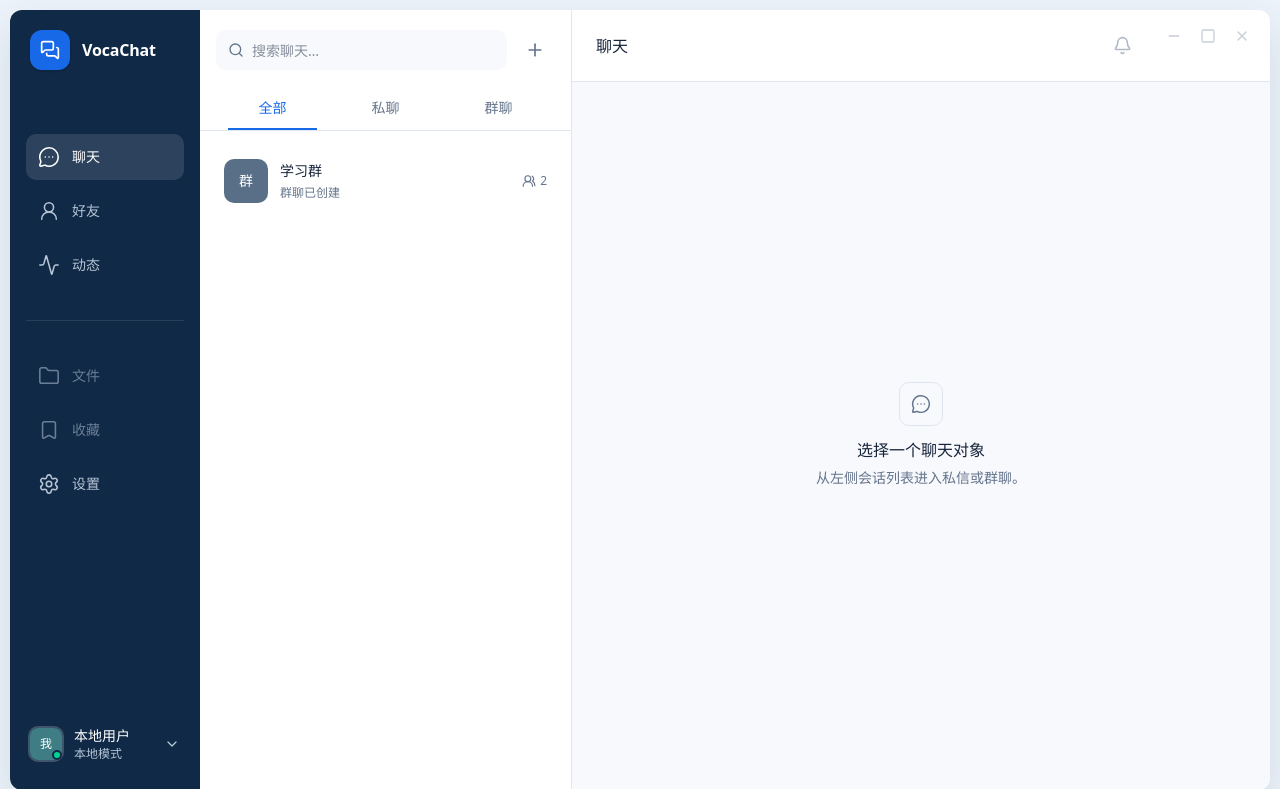
Test: VocaChatApp › 离开寻找新朋友页面后仍保留未提交资料
Click the button "好友": {"x": 105, "y": 211} left=26, top=188, right=184, bottom=234
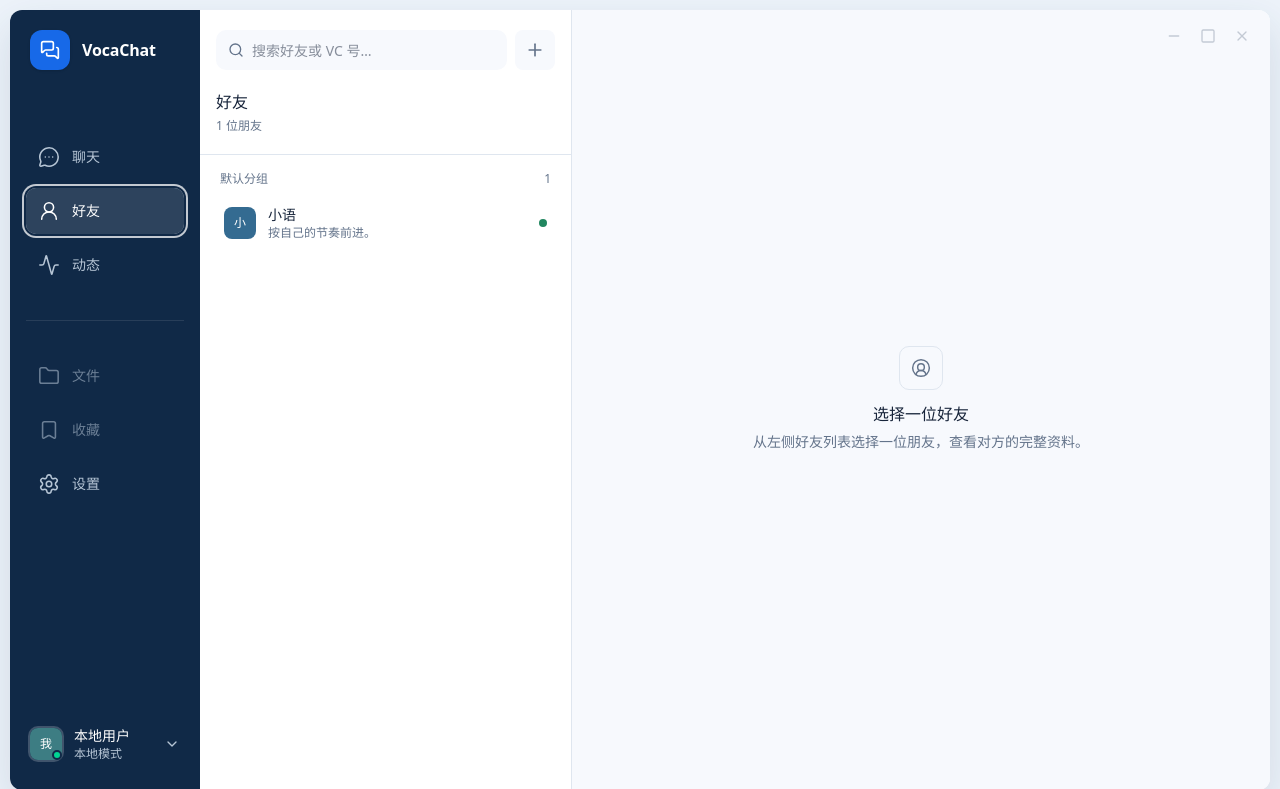
Click the button named "寻找新朋友": {"x": 535, "y": 50} left=515, top=30, right=555, bottom=70
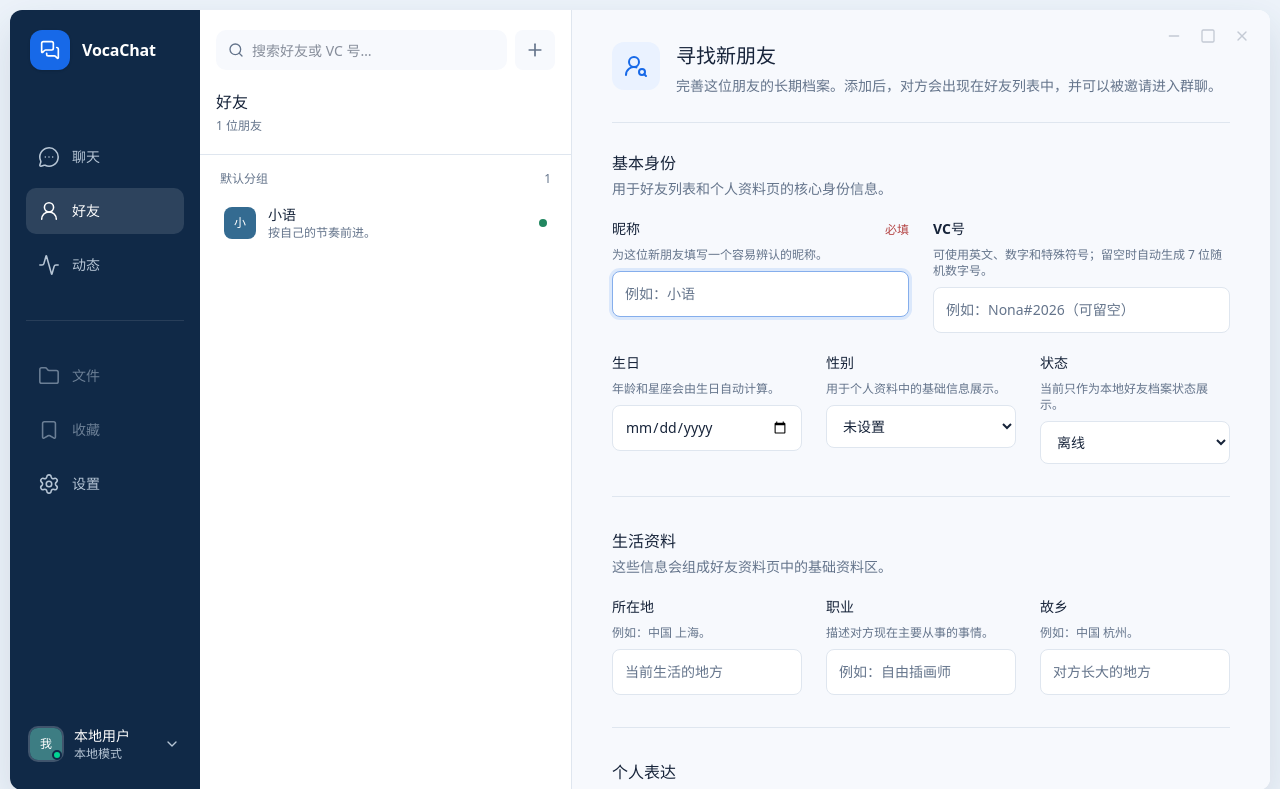
In the field labelled "昵称": {"x": 760, "y": 294} left=612, top=271, right=909, bottom=317, type "尚未创建的小语"
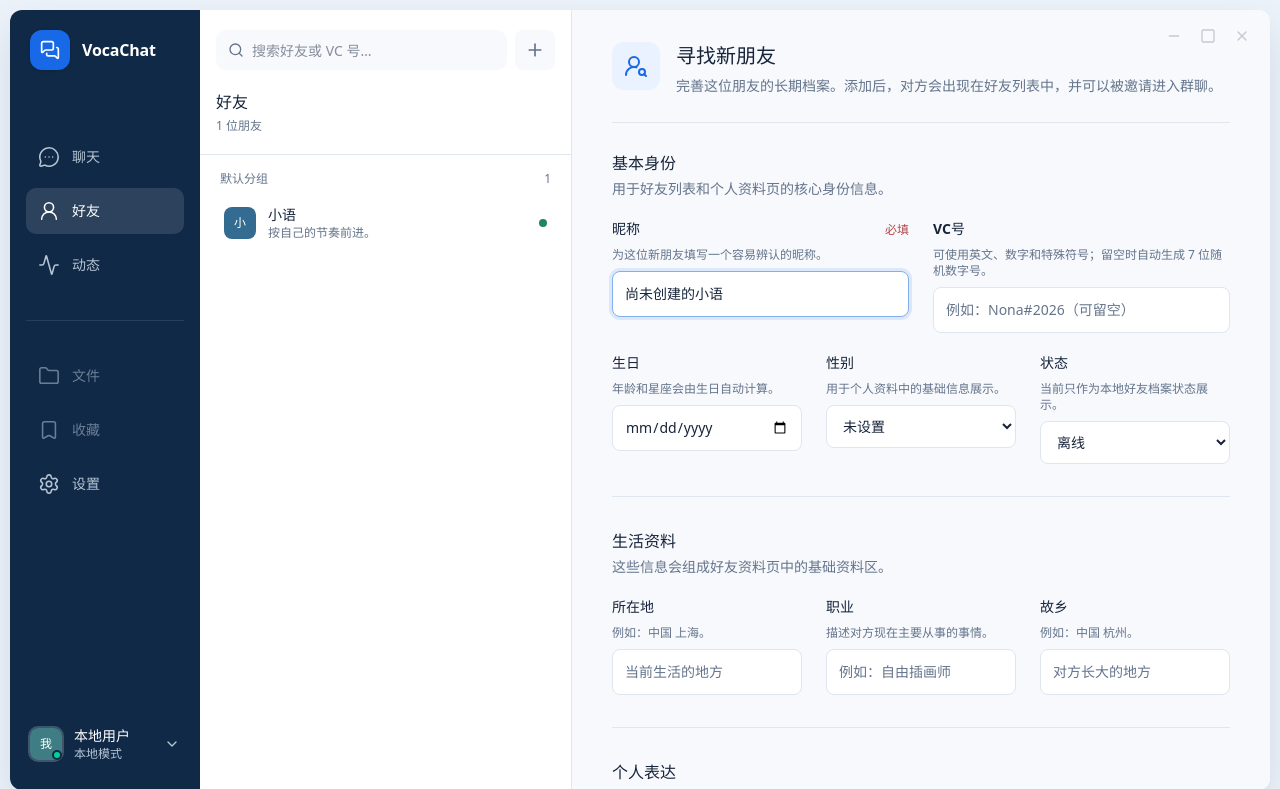
Click the button "聊天": {"x": 105, "y": 157} left=26, top=134, right=184, bottom=180
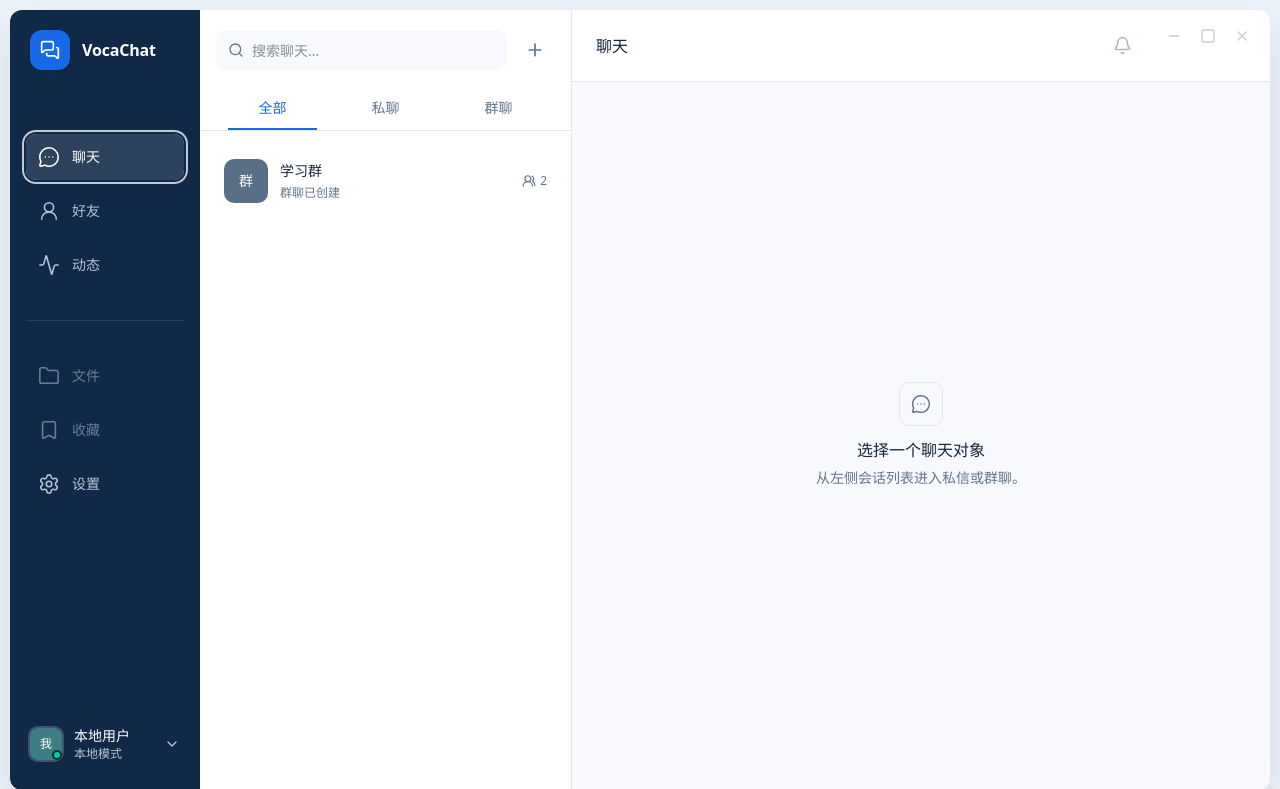
Click the button "好友": {"x": 105, "y": 211} left=26, top=188, right=184, bottom=234
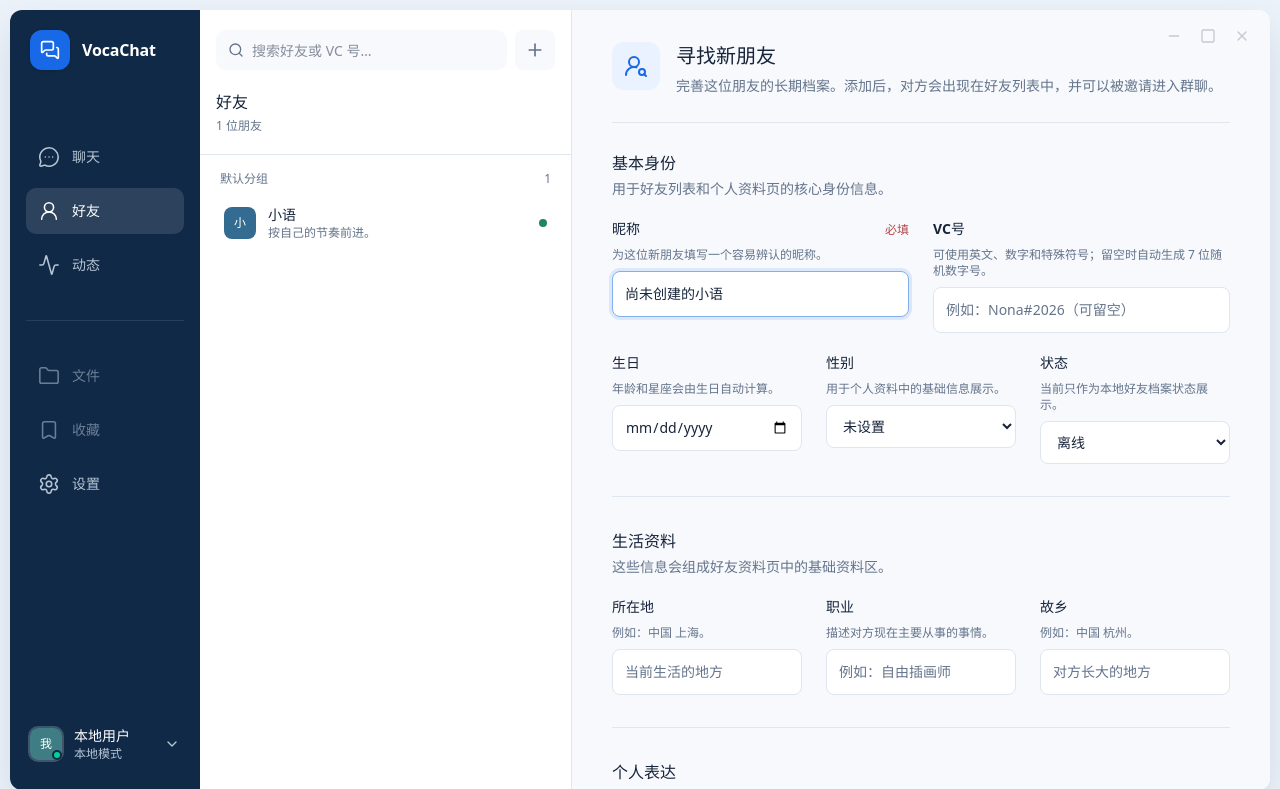
Now the field labelled "昵称" holds "尚未创建的小语", box left=612, top=271, right=909, bottom=317
